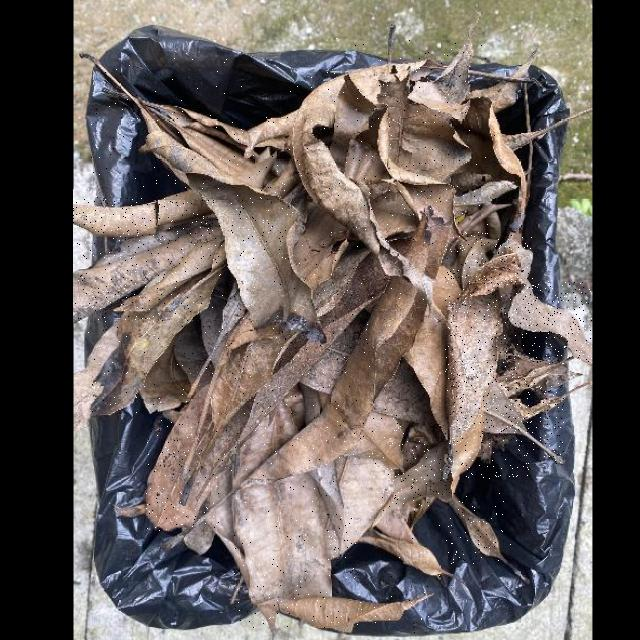biowaste: (192, 266, 390, 511), (252, 275, 428, 478), (327, 37, 501, 232), (288, 74, 434, 300), (235, 472, 430, 632), (91, 57, 302, 198), (86, 236, 228, 416), (185, 172, 326, 341), (180, 310, 295, 505), (446, 229, 533, 480), (73, 213, 223, 322), (145, 383, 220, 531), (358, 500, 454, 577), (508, 280, 592, 364), (73, 189, 216, 237), (484, 382, 564, 464), (233, 401, 300, 487), (336, 456, 394, 553), (392, 440, 453, 513), (449, 493, 511, 564), (347, 415, 404, 471), (328, 528, 340, 559)
